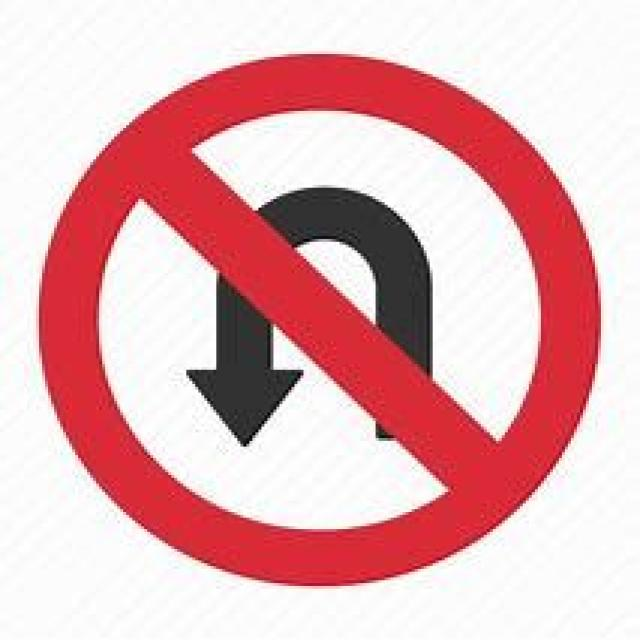stop: (33, 48, 601, 586)
